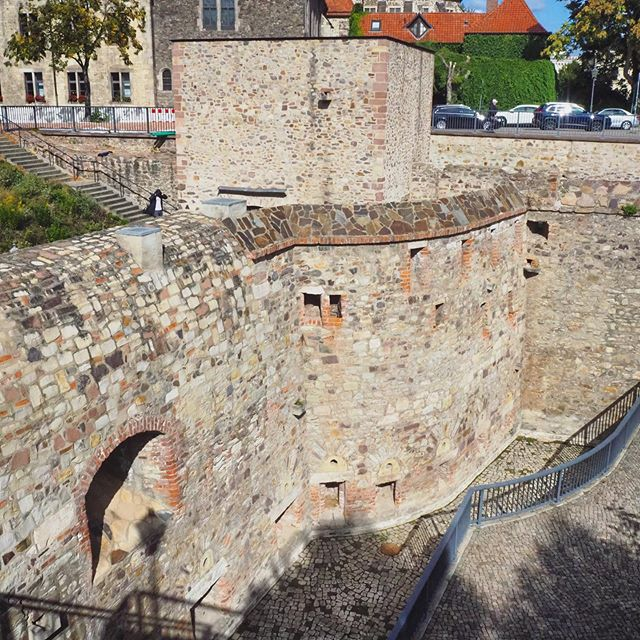building: (23, 128, 640, 640), (346, 4, 552, 104), (143, 1, 293, 113), (1, 1, 148, 103)
car: (423, 93, 493, 133), (524, 105, 611, 133)
tree: (8, 1, 143, 120), (560, 1, 640, 106)
